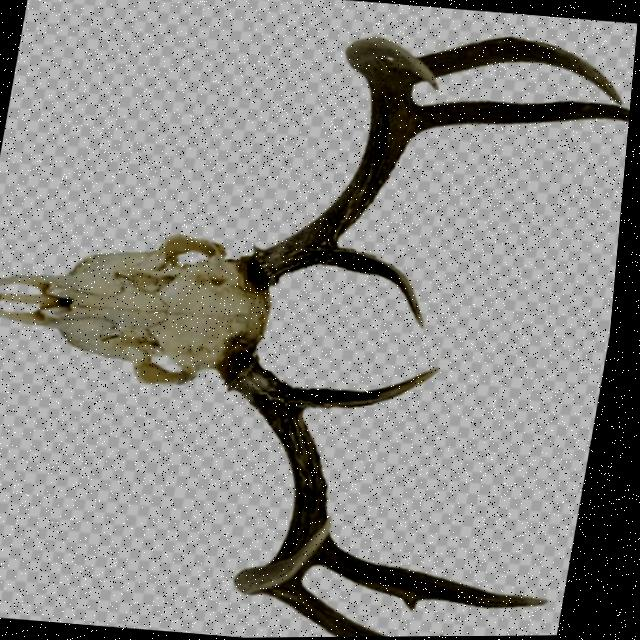E1: (416, 598, 429, 612)
L-F: (254, 38, 441, 285)
L-G1: (324, 247, 431, 329)
L-G2: (413, 99, 632, 136)
L-G3: (420, 37, 626, 104)
R-F: (232, 359, 341, 594)
R-G1: (299, 366, 447, 410)
R-G2: (321, 536, 558, 608)
R-G3: (273, 573, 404, 638)
